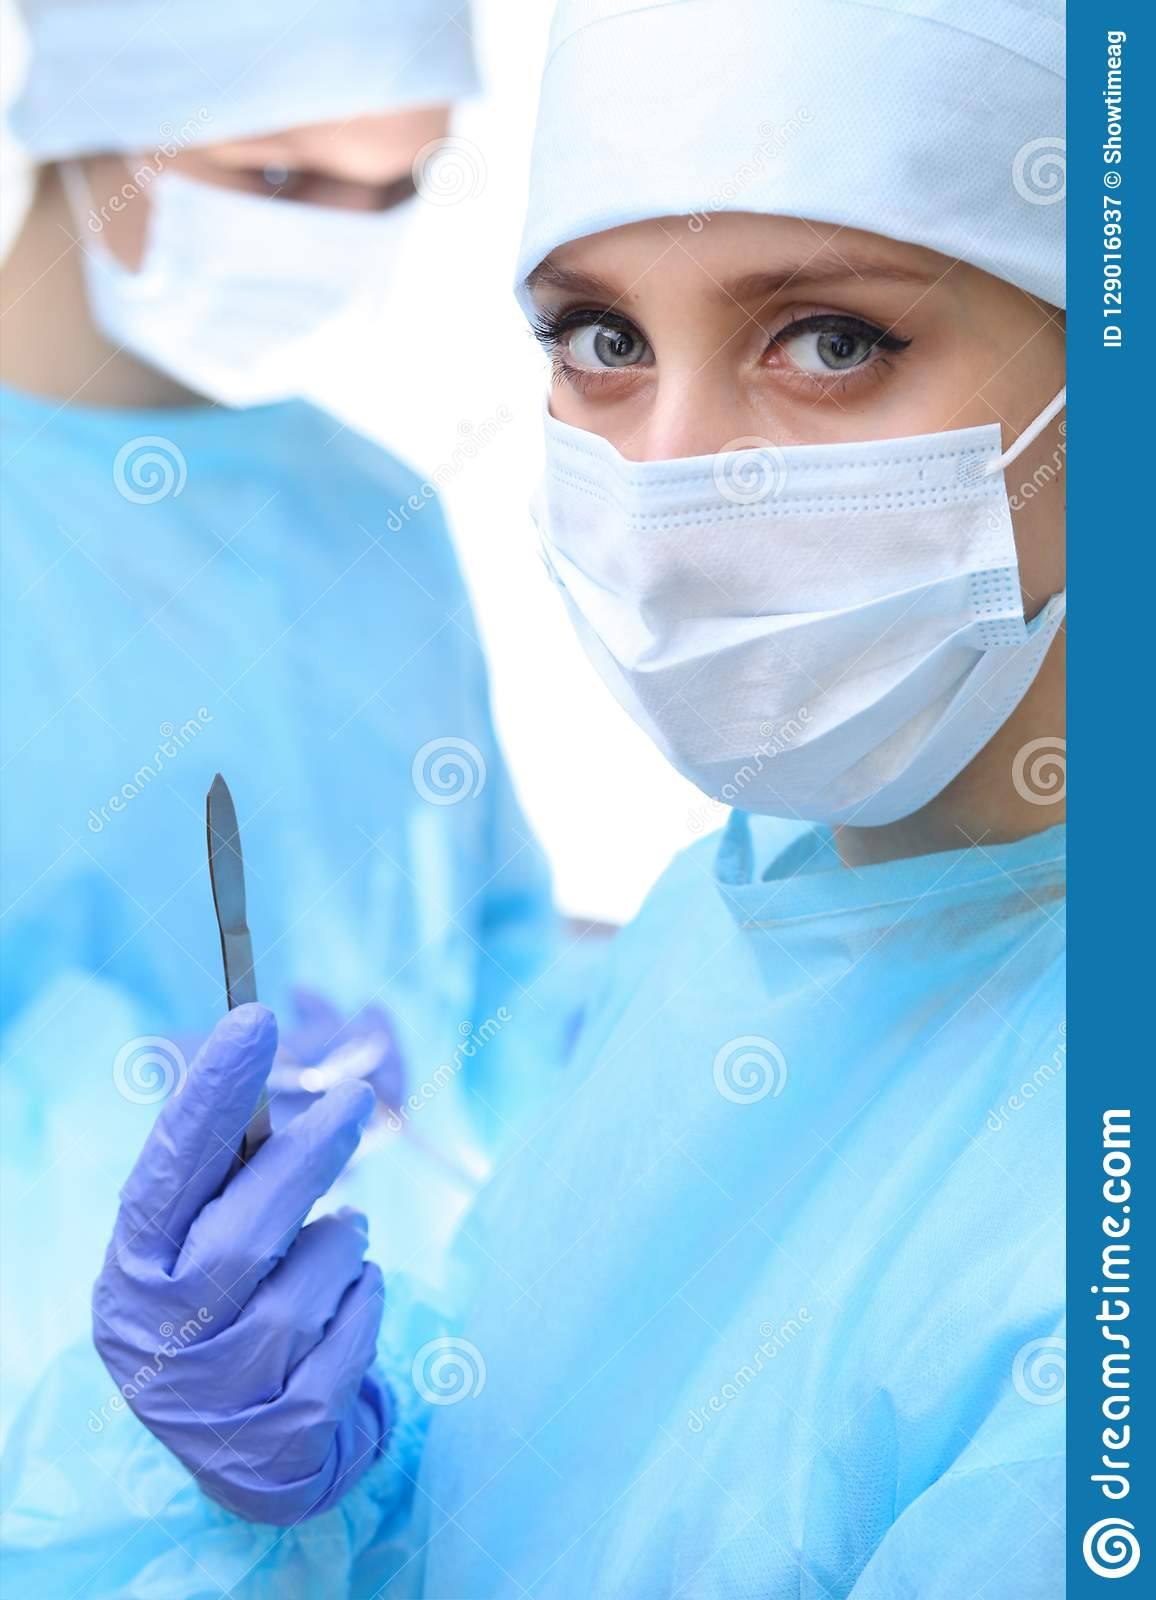mask: (500, 432, 1034, 848)
